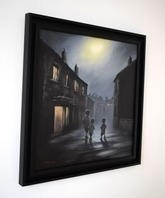painting: (18, 11, 148, 186)
